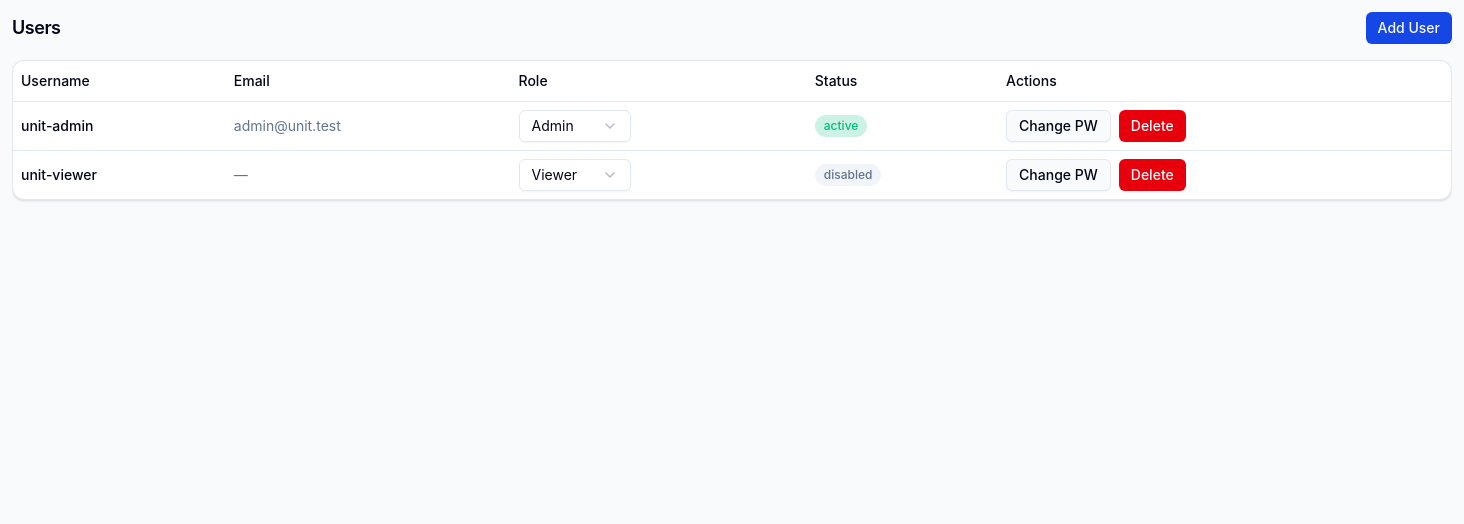
Test: UsersPage › create flow posts the typed body and refetches the list
Expected: the text "unit-admin" is shown, [13,101,226,150]
Click the button "Add User" at (1409, 28), box [1366,12,1452,44]
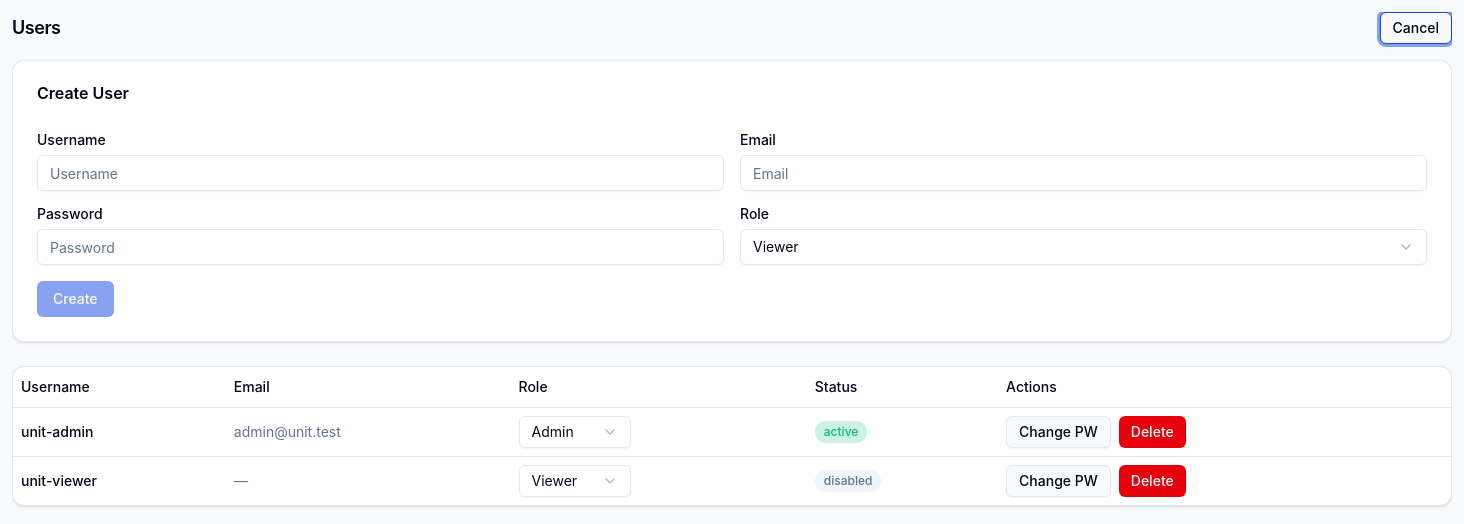
Type "unit-new" into the field labelled "Username" at (380, 173), box [37,155,724,191]
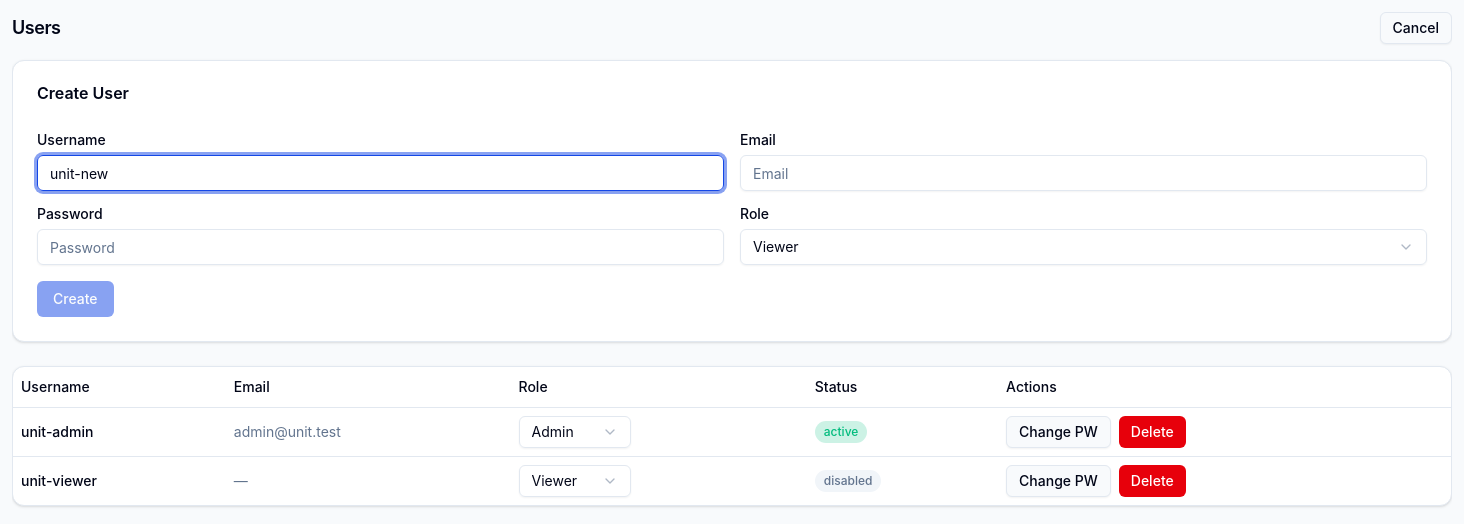
Type "pw-unit-1" into the password field labelled "Password" at (380, 247), box [37,229,724,265]
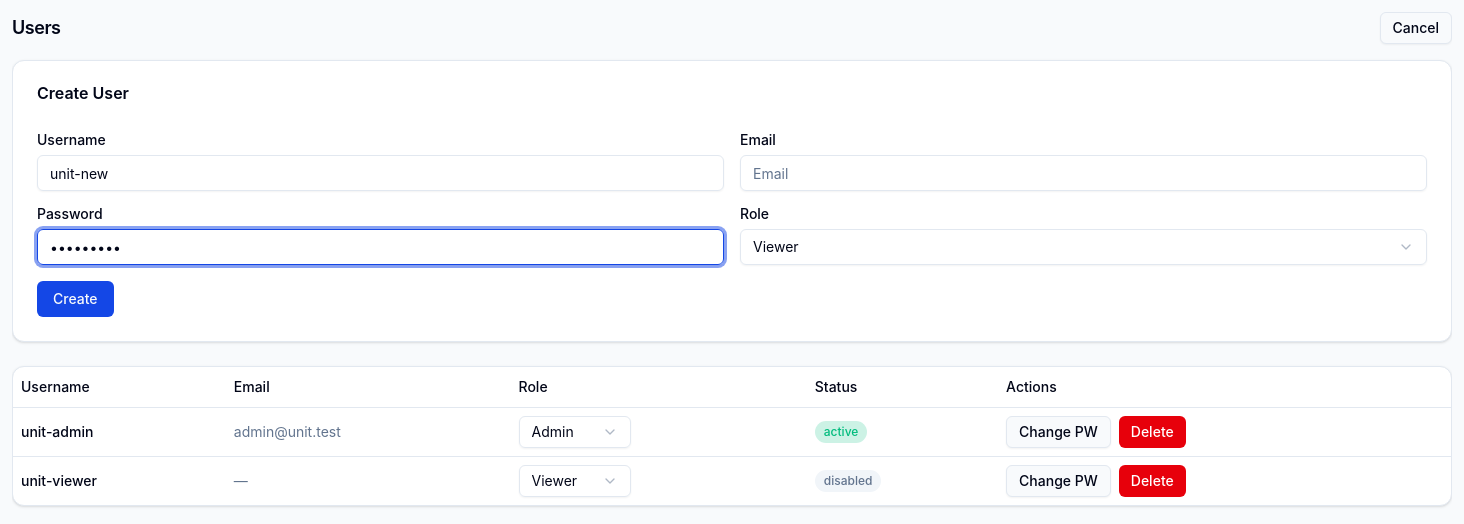
Click the button "Create" at (75, 299), box [37,281,114,317]
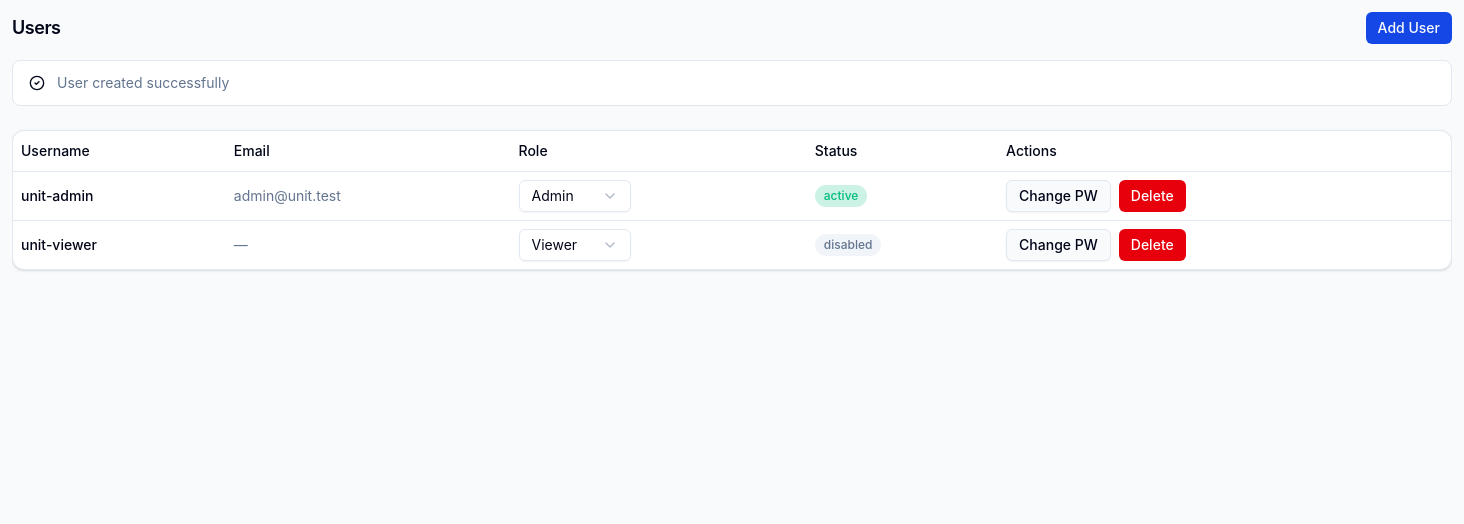
Expected: the text "User created successfully" is shown, [57,74,229,91]
